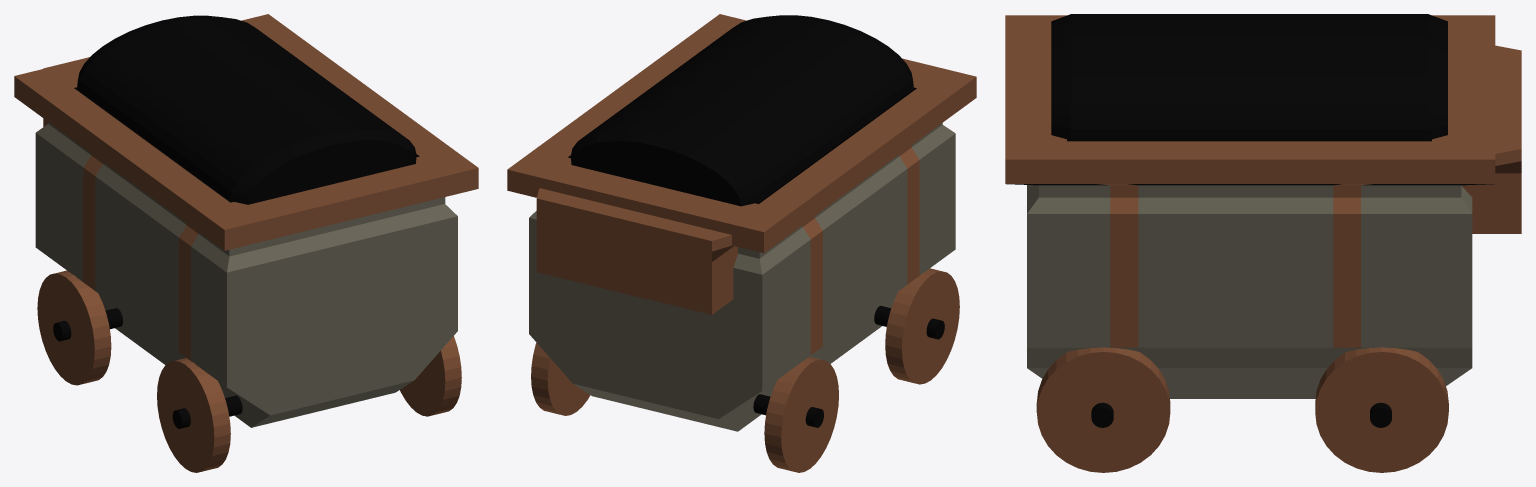
The model's file is minecart_full.fbx.
The picture shows the model from 3 angles, left to right: view 1: azimuth 30°, elevation 25°; view 2: azimuth 150°, elevation 25°; view 3: azimuth 270°, elevation 25°; orthographic projection. The views are drawn at different scales.
Parts seen in each view (by area): view 1: Cube, Cylinder, wheel.002, wheel.003, wheel, Cylinder.001, Cylinder.002; view 2: Cube, Cylinder, wheel.003, wheel.002, wheel.001, Cylinder.002, Cylinder.001; view 3: Cube, Cylinder, wheel, wheel.001.
Boxes of the visible parts, x1=… form: Cube: x1=14, y1=14, x2=478, y2=427; Cylinder: x1=77, y1=15, x2=416, y2=204; wheel.002: x1=37, y1=270, x2=111, y2=385; wheel.003: x1=157, y1=358, x2=230, y2=472; wheel: x1=400, y1=336, x2=461, y2=416; Cylinder.001: x1=172, y1=395, x2=242, y2=428; Cylinder.002: x1=53, y1=308, x2=122, y2=341; Cube: x1=507, y1=14, x2=976, y2=431; Cylinder: x1=570, y1=15, x2=913, y2=206; wheel.003: x1=885, y1=268, x2=959, y2=384; wheel.002: x1=764, y1=356, x2=838, y2=472; wheel.001: x1=531, y1=342, x2=590, y2=415; Cylinder.002: x1=753, y1=394, x2=823, y2=427; Cylinder.001: x1=874, y1=305, x2=944, y2=339; Cube: x1=1005, y1=15, x2=1521, y2=398; Cylinder: x1=1051, y1=14, x2=1447, y2=140; wheel: x1=1036, y1=347, x2=1170, y2=472; wheel.001: x1=1315, y1=347, x2=1448, y2=472.
Size of the model in its own units: 160 by 181 by 232.
